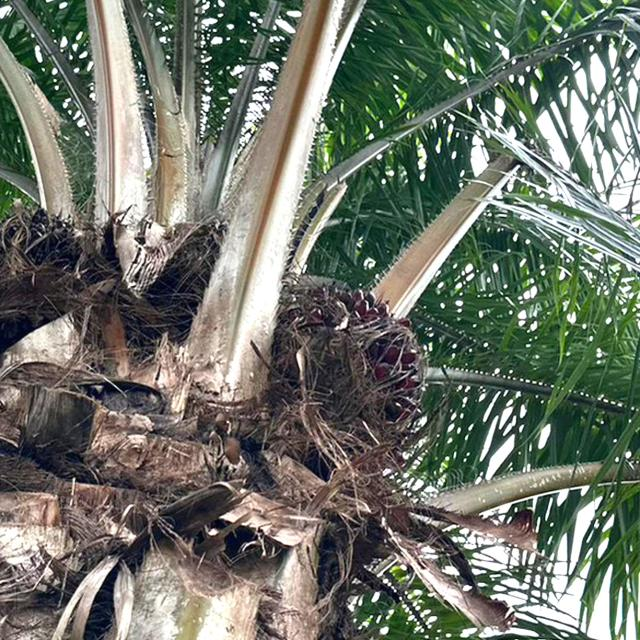ripe: (260, 269, 436, 452)
